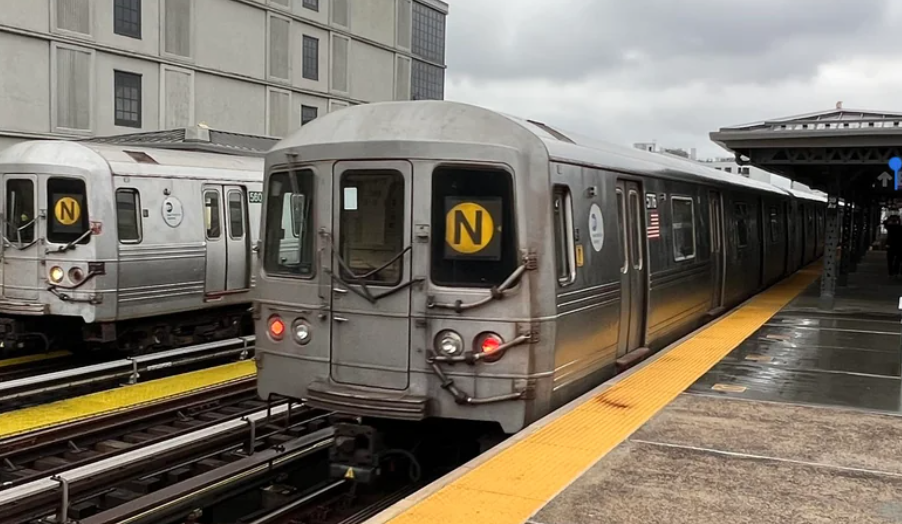train: (257, 106, 584, 401), (1, 138, 248, 311)
